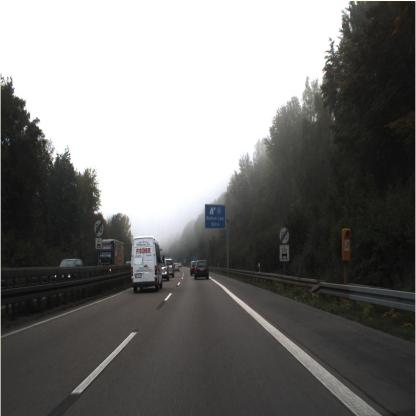other: (91, 218, 105, 240), (276, 224, 290, 246)
